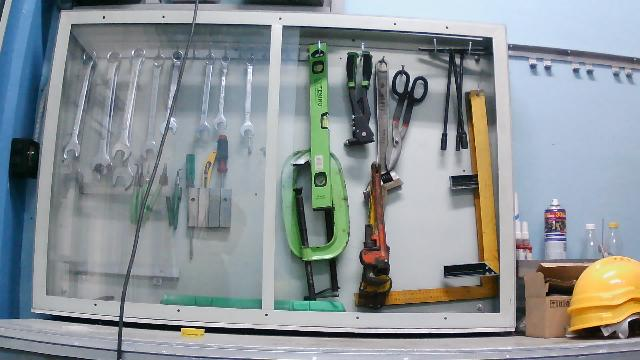water_pass: (305, 39, 337, 216)
